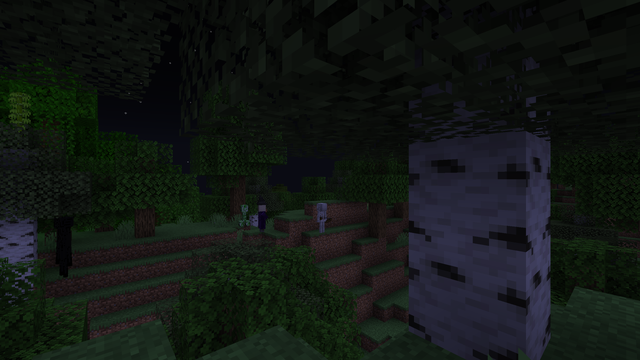creepers: (238, 203, 248, 225)
endermens: (54, 214, 72, 277)
sorcieres: (255, 203, 266, 232)
squelettes: (315, 203, 327, 233)
